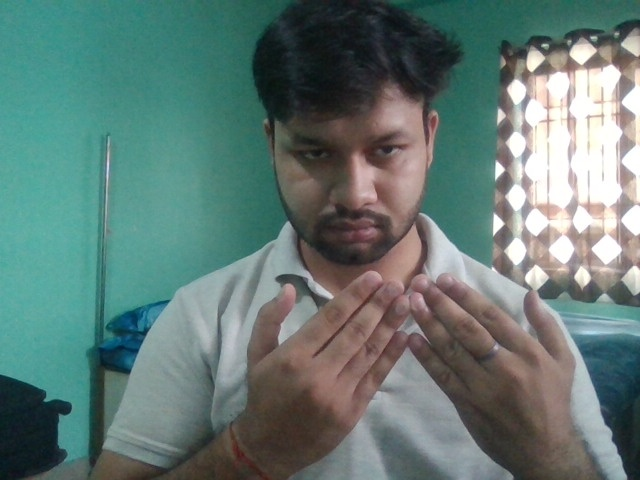Thank You: (242, 273, 590, 468)
